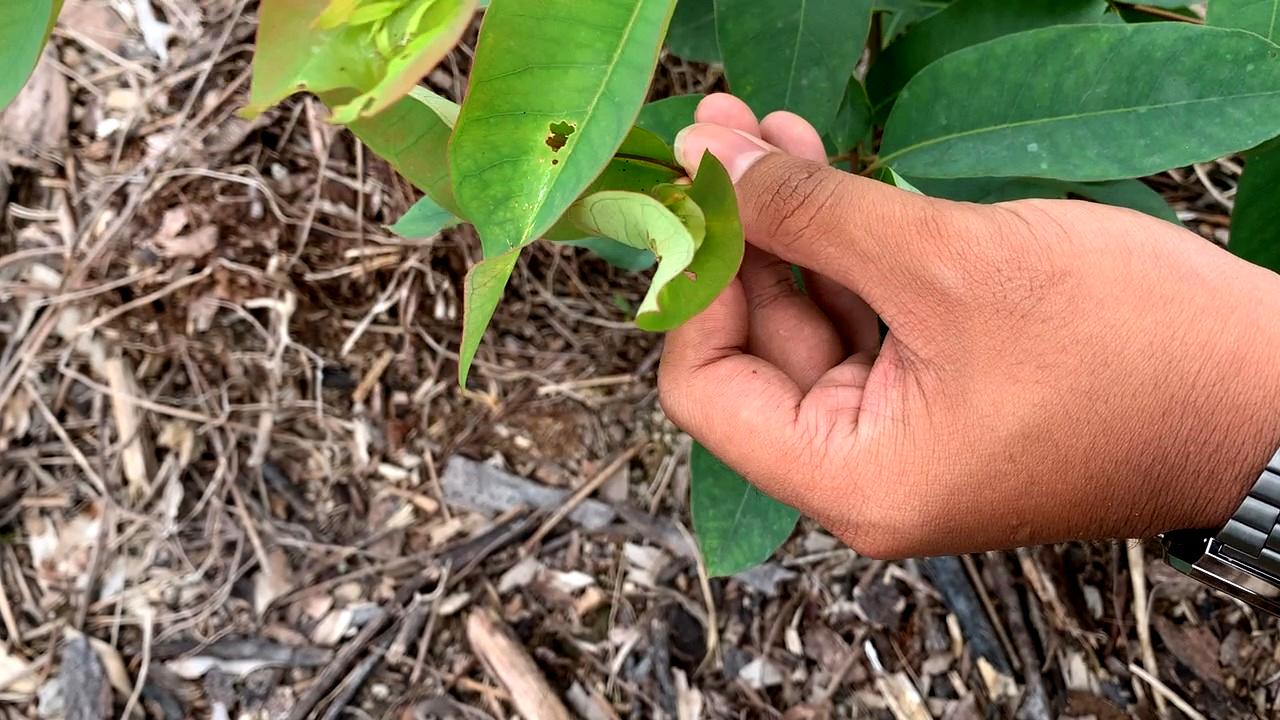Leaf Roller - Leaf: (612, 166, 734, 296)
